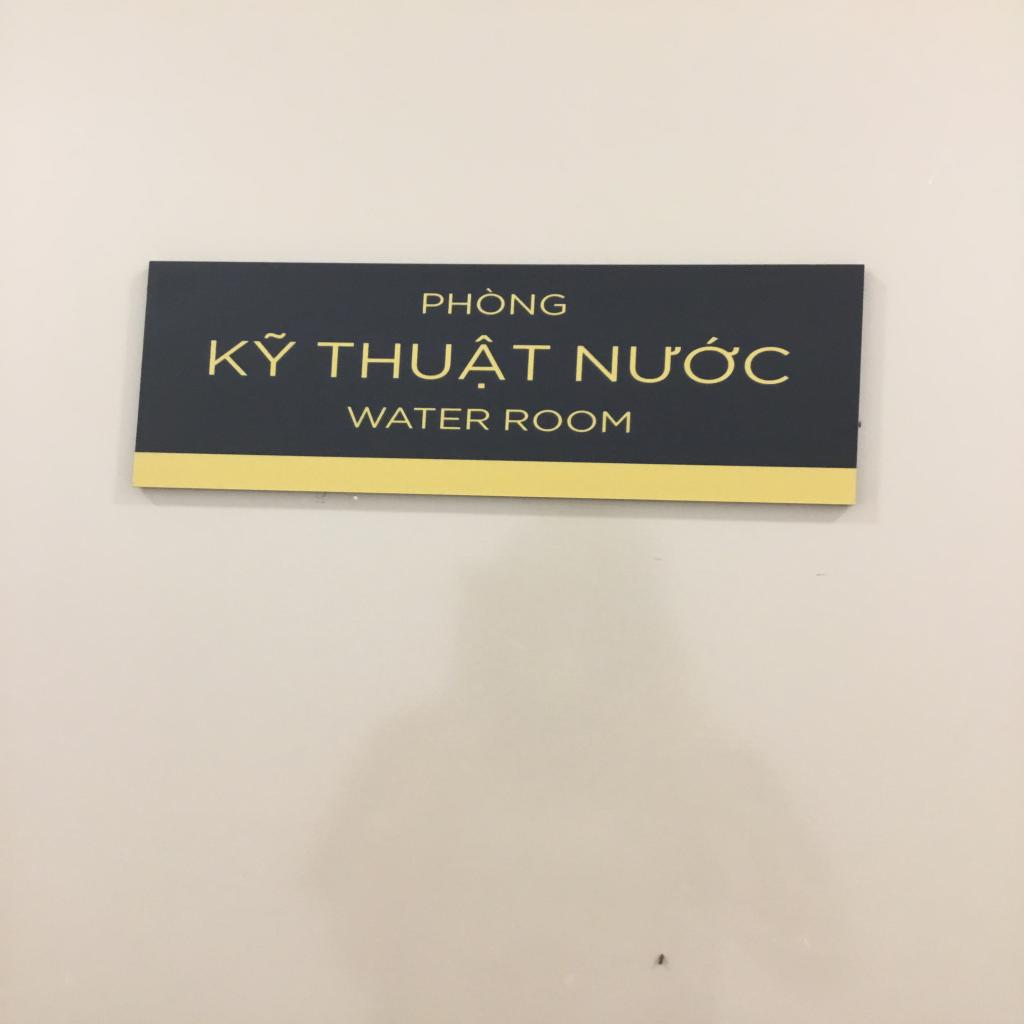text: (444, 353, 520, 533), (446, 171, 515, 338), (440, 538, 504, 614), (381, 342, 423, 453), (540, 399, 575, 509)
